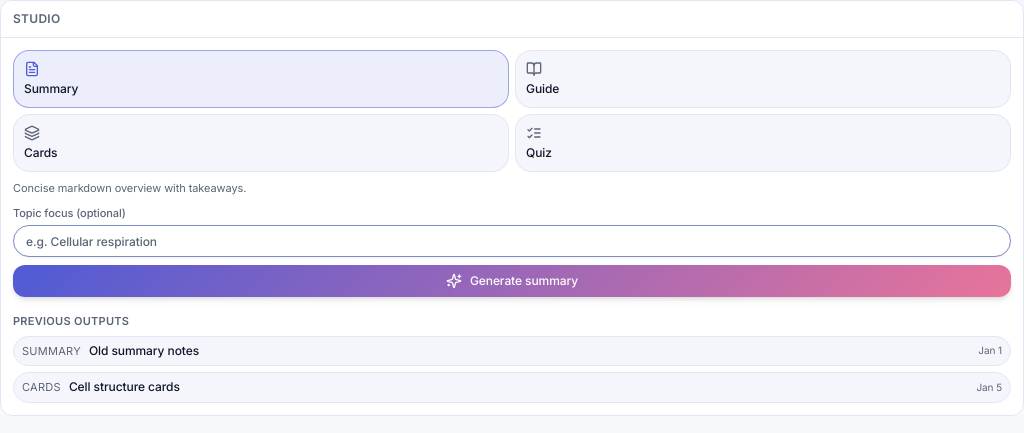
Test: opening a flashcards output › lists the earlier generation instead of claiming none exists
Click the button "Cards Cell structure cards Jan 5". click: click(41, 387)
box: [13,372,1011,402]
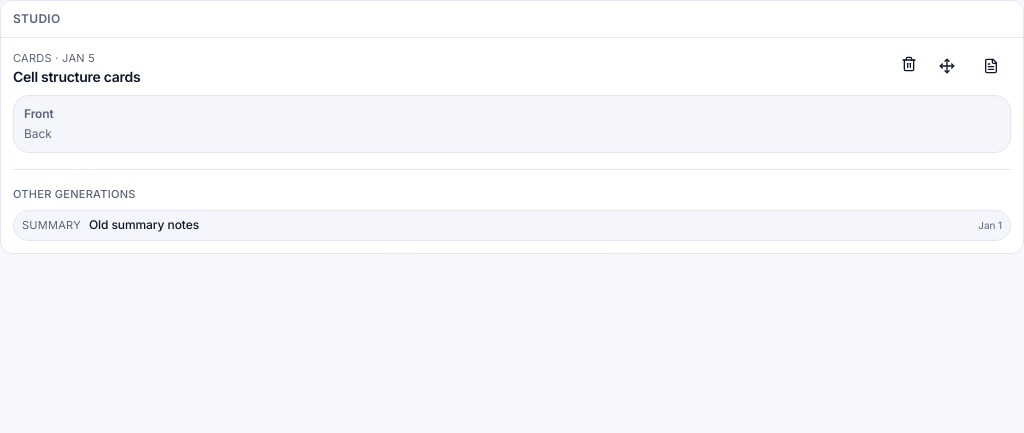
Check: the text "Old summary notes" is shown, box [89,217,199,232]
Check: the heading "Other generations" is shown, box [13,186,136,200]
